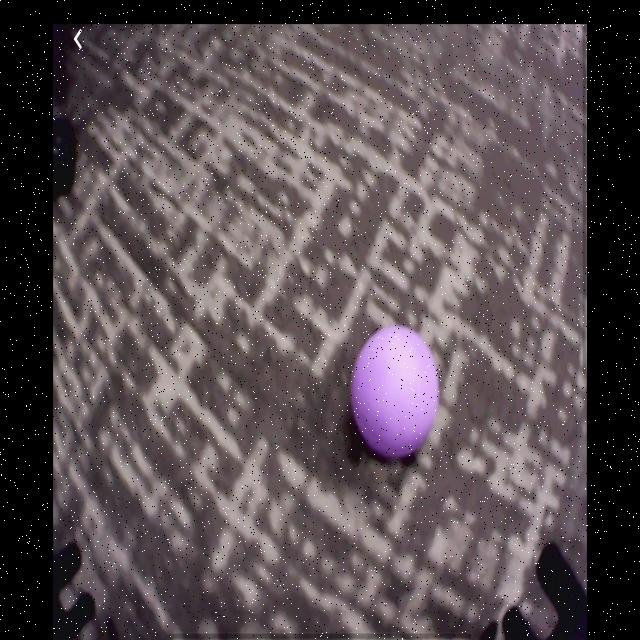ball: (351, 326, 440, 460)
